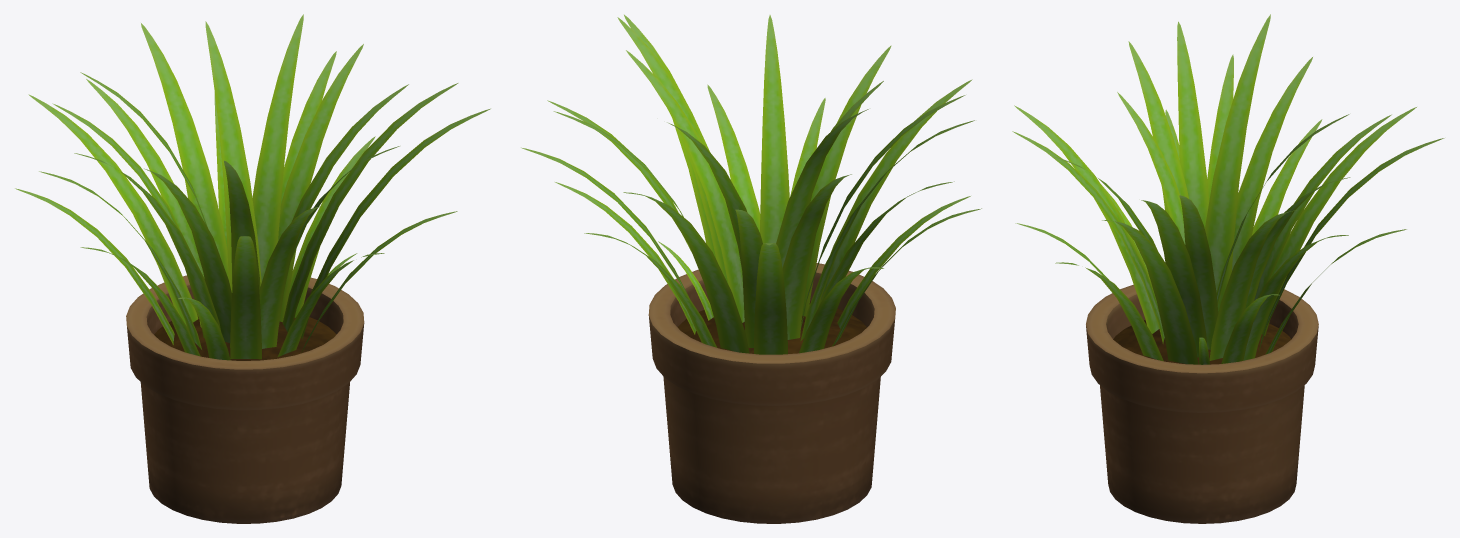
File: Plant Pot 3.fbx
3 renders of one model, left to right at view 1: azimuth 30°, elevation 25°; view 2: azimuth 150°, elevation 25°; view 3: azimuth 270°, elevation 25°, orthographic. The views are drawn at different scales.
Visible parts, largest first — view 1: flower_pot_lod1; view 2: flower_pot_lod1; view 3: flower_pot_lod1.
Part boxes in pixels (bbox=[...]): flower_pot_lod1: bbox=[15, 14, 490, 523]; flower_pot_lod1: bbox=[521, 14, 981, 523]; flower_pot_lod1: bbox=[1012, 14, 1444, 523].
Bounding box in the file's own units: 0.4464 × 0.4611 × 0.4447.
1 material, 1 textured.
